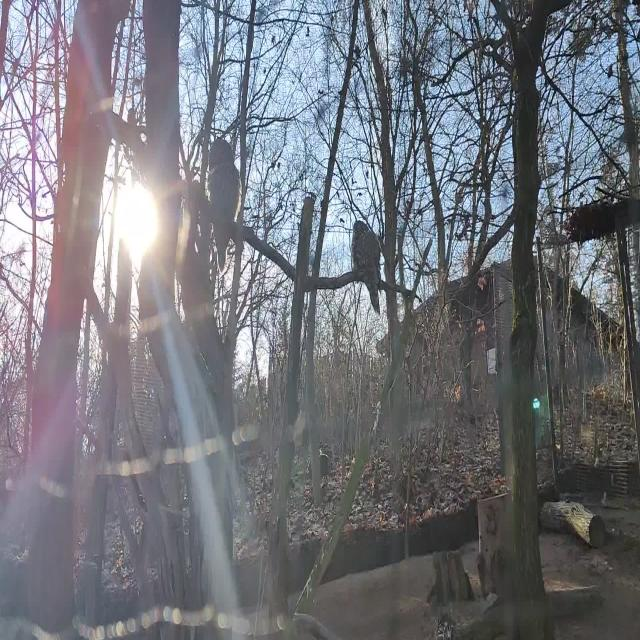bird: (207, 138, 242, 274), (352, 220, 382, 317)
